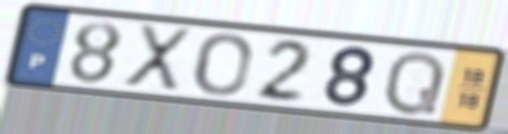2: (252, 37, 316, 105)
8: (64, 17, 126, 87), (320, 43, 379, 110)
O: (192, 31, 254, 98)
Q: (380, 48, 449, 118)
X: (119, 21, 195, 96)
